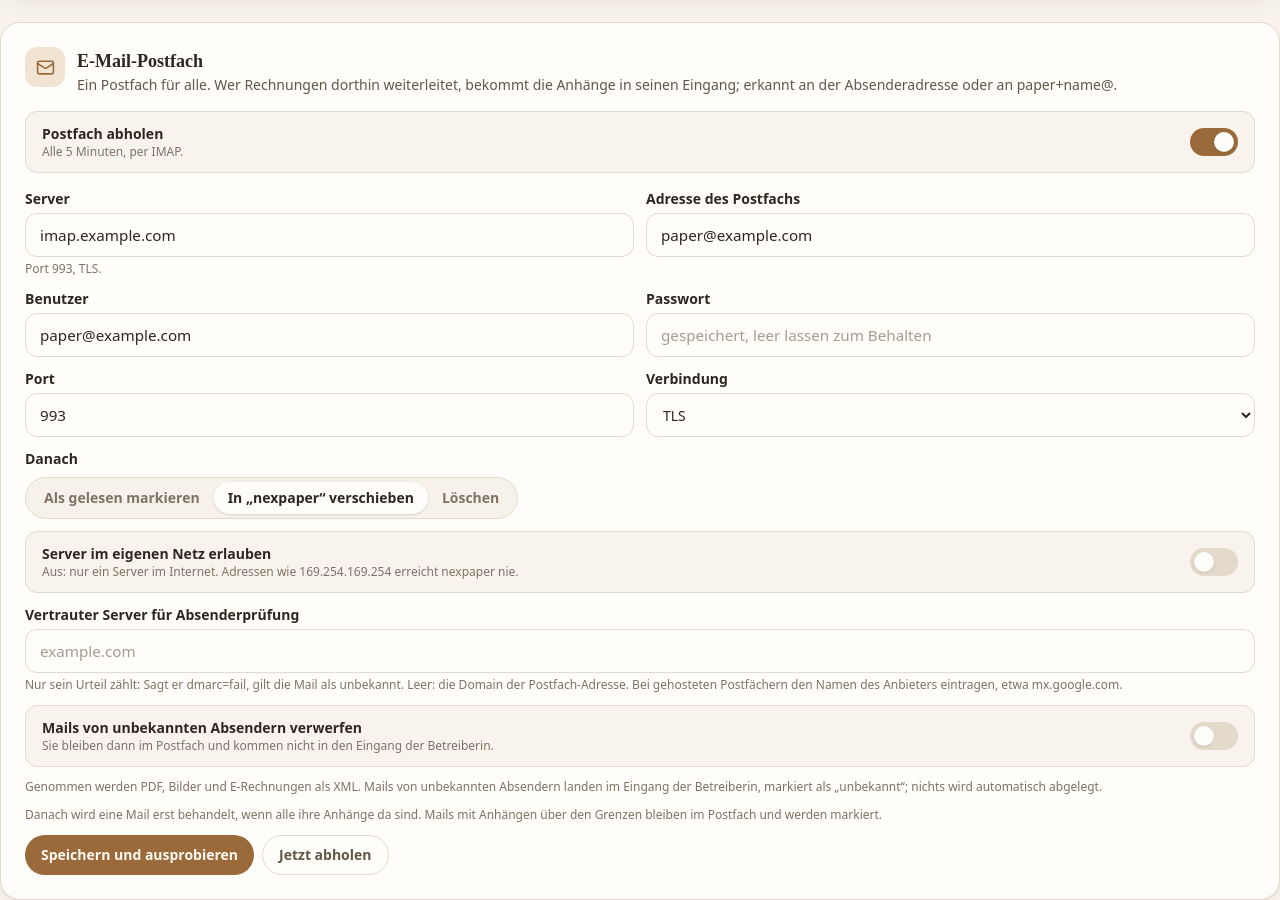
Test: Settings, Inputs › says mail_login_failed in the words of the card
This screenshot has width=1280, height=900.
(page scrolled)
Click the button "Speichern und ausprobieren". click: (140, 855)
box: [25,835,254,875]
(page scrolled)
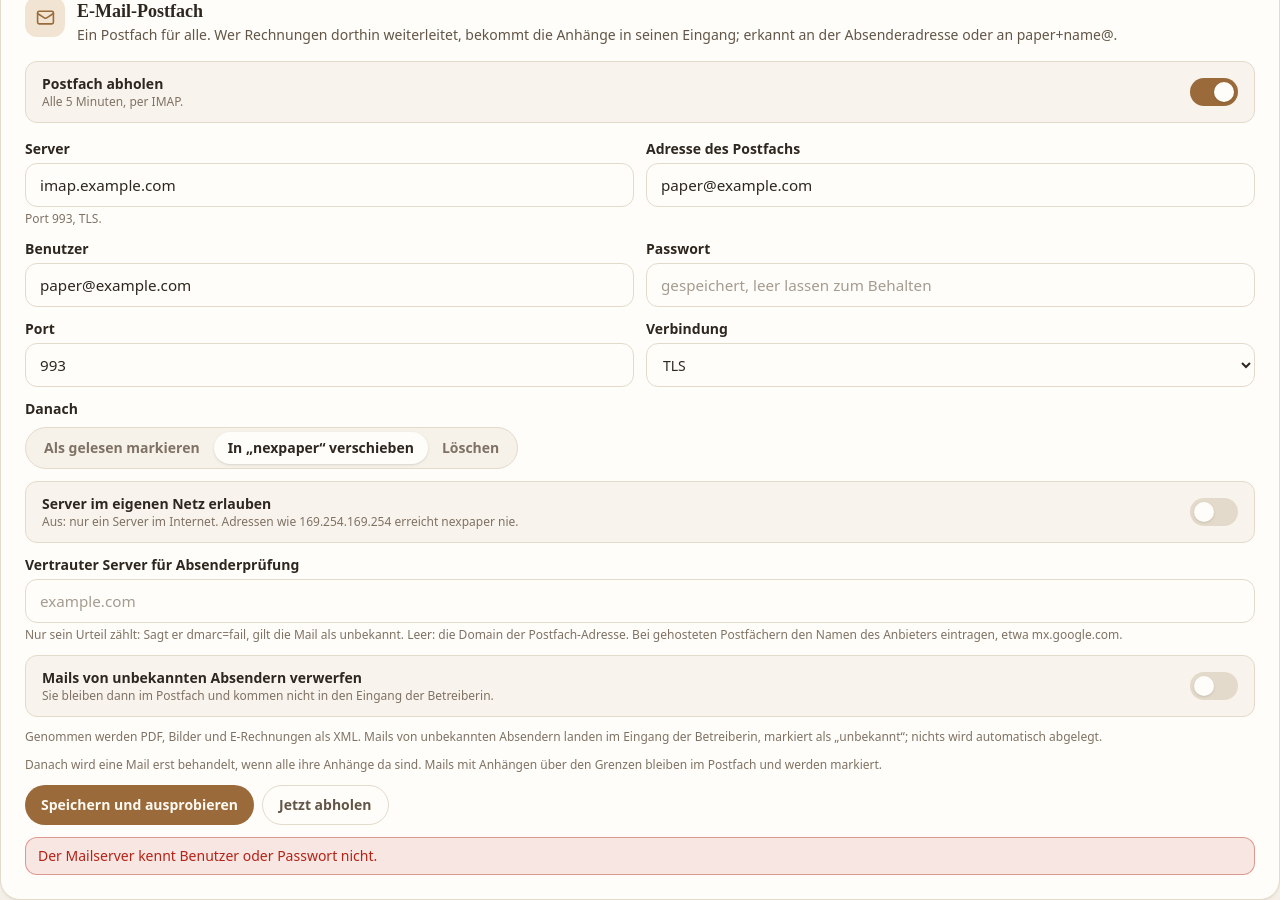
Result: the message "Der Mailserver kennt Benutzer oder Passwort nicht." is shown at [25,837,1255,875]
